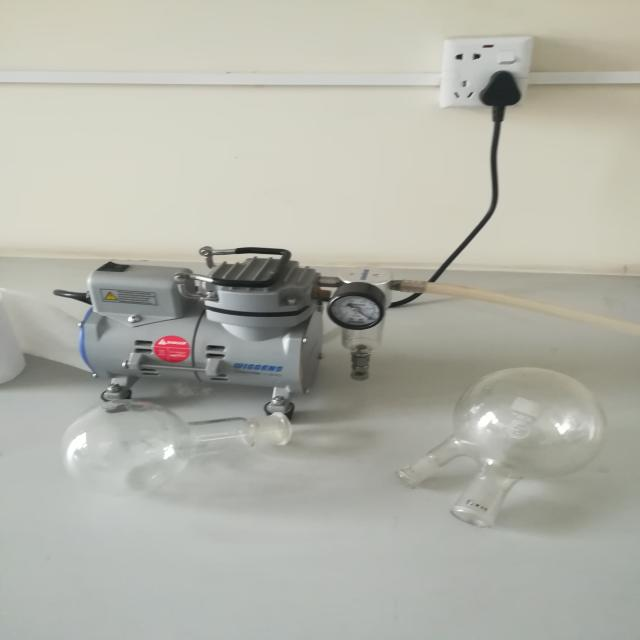Round_Bottom_Flask_Borosilicate_Glass_1_Neck: (37, 349, 308, 528)
Round_Bottom_Flask_Borosilicate_Glass_2_Neck: (394, 352, 621, 550)
